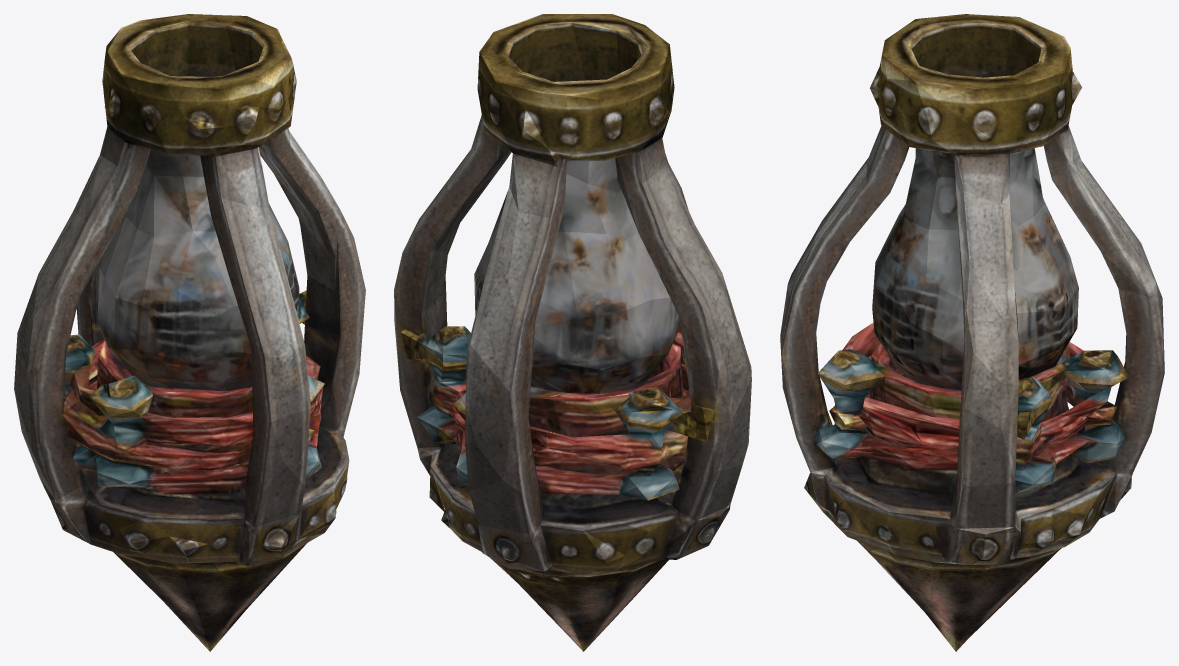
3 renders of one model, left to right at view 1: azimuth 30°, elevation 25°; view 2: azimuth 150°, elevation 25°; view 3: azimuth 270°, elevation 25°, orthographic. The views are drawn at different scales.
Parts seen in each view (by area): view 1: geometry_0; view 2: geometry_0; view 3: geometry_0.
Boxes of the visible parts, left/top/right/bottom form: geometry_0: left=14, top=14, right=365, bottom=651; geometry_0: left=394, top=14, right=751, bottom=651; geometry_0: left=780, top=14, right=1164, bottom=651.
Size of the model in its own units: 0.5884 by 1 by 0.5779.
1 material, 1 textured.
